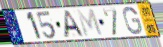1: (27, 10, 43, 41)
5: (35, 10, 58, 40)
7: (102, 7, 119, 37)
A: (63, 10, 86, 39)
G: (123, 6, 144, 36)
M: (75, 8, 105, 39)
